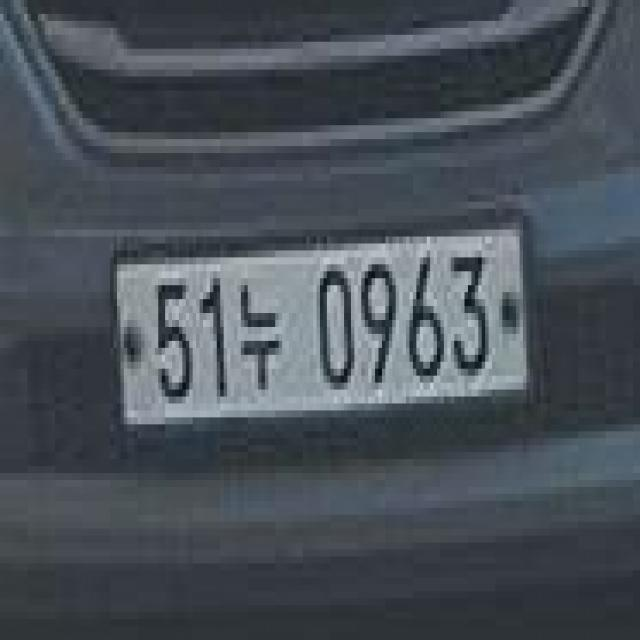0: (314, 262, 360, 396)
1: (199, 266, 234, 406)
3: (452, 238, 502, 388)
5: (152, 273, 194, 413)
6: (407, 241, 448, 392)
9: (362, 242, 404, 392)
license_plate: (111, 211, 541, 435)
nu: (236, 256, 292, 401)
